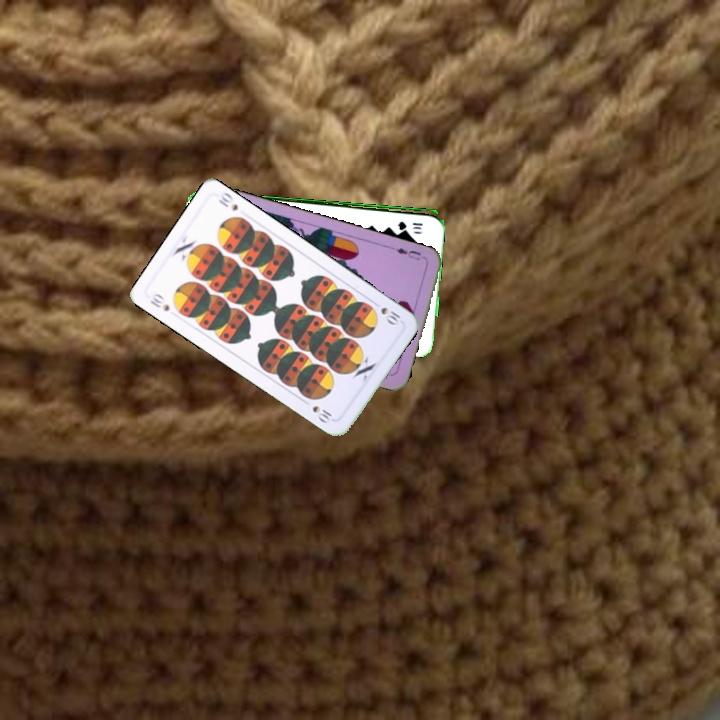EU: (388, 242, 423, 263)
G10: (393, 217, 425, 230)
S10: (368, 297, 403, 328), (146, 289, 172, 314)
